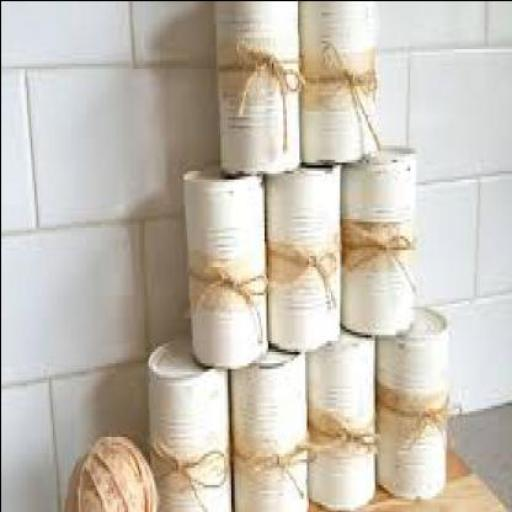metal: (186, 161, 266, 362), (149, 334, 233, 509), (376, 302, 450, 498), (338, 147, 415, 331), (269, 158, 343, 348), (217, 1, 300, 170), (308, 317, 378, 509), (234, 340, 308, 510), (298, 2, 378, 156)
